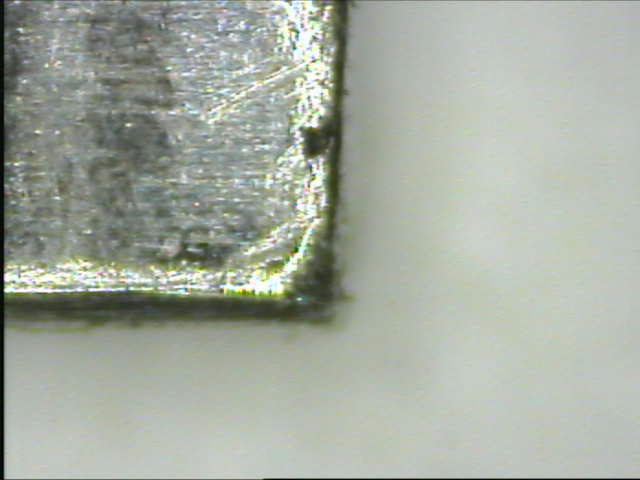edge: (319, 1, 357, 326)
line: (84, 1, 170, 199)
